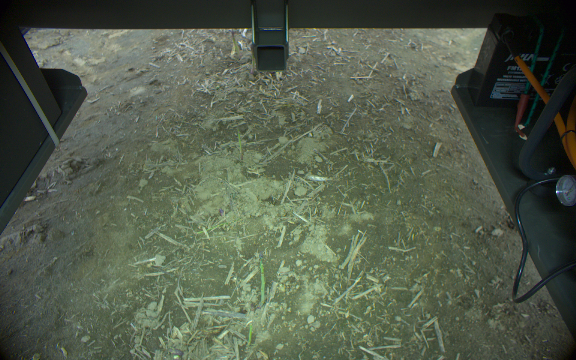aspa: (256, 250, 269, 310), (234, 124, 244, 163), (248, 46, 256, 76), (245, 321, 253, 349), (230, 29, 238, 55)
